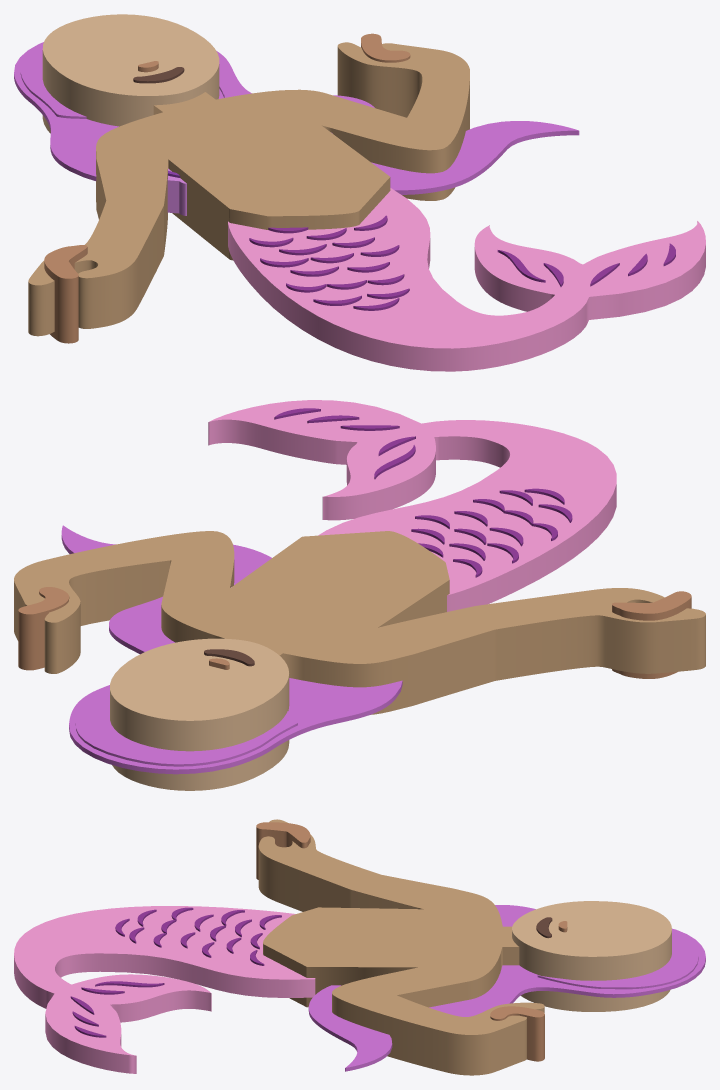
The model's file is emoji_u1f9dc_1f3fc_200d_2640.glb.
3 views of the same model, one above another, from view 1: azimuth 30°, elevation 25°; view 2: azimuth 150°, elevation 25°; view 3: azimuth 270°, elevation 25° (orthographic). The views are drawn at different scales.
Visible parts, largest first — view 1: emoji_u1f9dc_1f3fc_200d_2640; view 2: emoji_u1f9dc_1f3fc_200d_2640; view 3: emoji_u1f9dc_1f3fc_200d_2640.
Part boxes in pixels (x1,y1,x2,y2): emoji_u1f9dc_1f3fc_200d_2640: (14, 14, 705, 371); emoji_u1f9dc_1f3fc_200d_2640: (14, 400, 705, 790); emoji_u1f9dc_1f3fc_200d_2640: (14, 819, 705, 1075).
Size of the model in its own units: 0.0268 by 0.0034 by 0.0341.
